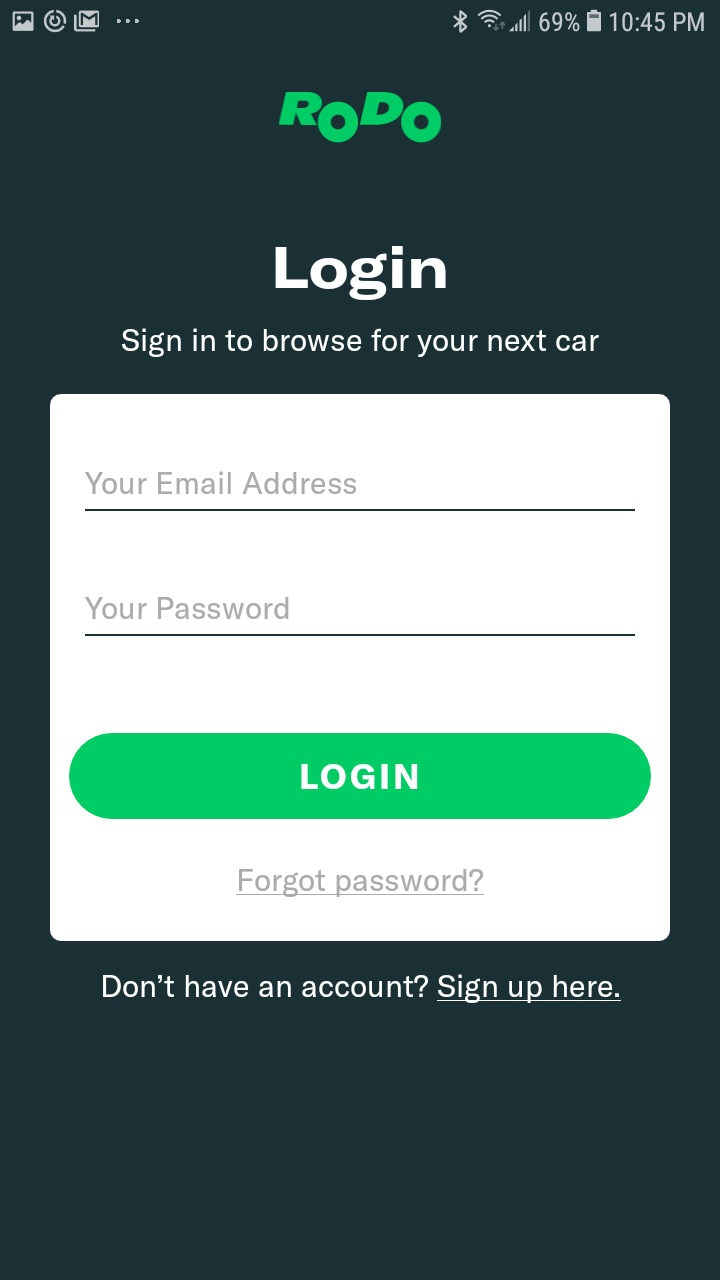EditText: (85, 471, 636, 512), (85, 597, 636, 637)
Image: (279, 92, 442, 144)
Text: (103, 974, 622, 1004), (122, 328, 599, 358), (275, 246, 447, 301), (236, 869, 485, 898), (86, 471, 357, 495), (86, 597, 290, 621)
TextButton: (69, 733, 652, 820)
UpperTaskBar: (1, 1, 720, 35)
